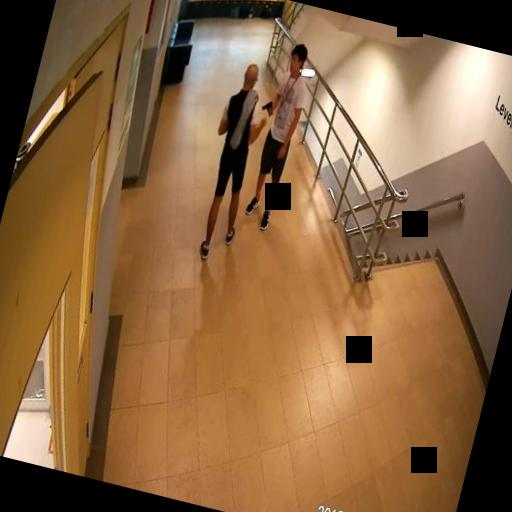Handgun: (260, 97, 274, 115)
